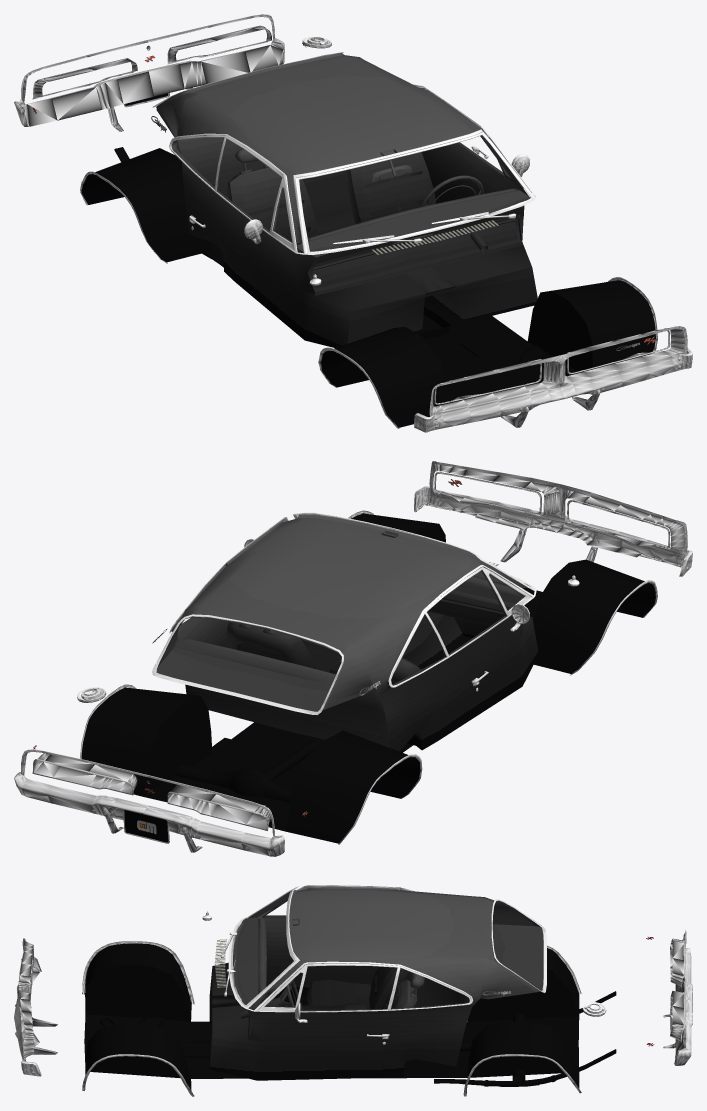
The model's file is Dodgecharger1970_tier.fbx.
3 views of the same model, one above another, from view 1: azimuth 30°, elevation 25°; view 2: azimuth 150°, elevation 25°; view 3: azimuth 270°, elevation 25° (orthographic). The views are drawn at different scales.
Visible parts, largest first — view 1: CG_RT_Car_interior_tier_s, CG_RT_Black_Bottom_tier_s, CG_RT_Chrome_tier_s_vcolor, CG_RT_lables_tier_s; view 2: CG_RT_Car_interior_tier_s, CG_RT_Black_Bottom_tier_s, CG_RT_Chrome_tier_s_vcolor, CG_RT_CM_Logo_tier_s_vcolor; view 3: CG_RT_Car_interior_tier_s, CG_RT_Black_Bottom_tier_s, CG_RT_Chrome_tier_s_vcolor, CG_RT_lables_tier_s.
Boxes of the visible parts, <box> form: CG_RT_Car_interior_tier_s: <box>156,53,537,347</box>; CG_RT_Black_Bottom_tier_s: <box>81,147,655,427</box>; CG_RT_Chrome_tier_s_vcolor: <box>14,14,692,432</box>; CG_RT_lables_tier_s: <box>32,43,656,350</box>; CG_RT_Car_interior_tier_s: <box>156,514,538,751</box>; CG_RT_Black_Bottom_tier_s: <box>81,513,655,843</box>; CG_RT_Chrome_tier_s_vcolor: <box>14,461,692,856</box>; CG_RT_CM_Logo_tier_s_vcolor: <box>124,810,168,842</box>; CG_RT_Car_interior_tier_s: <box>209,887,543,1080</box>; CG_RT_Black_Bottom_tier_s: <box>84,943,616,1092</box>; CG_RT_Chrome_tier_s_vcolor: <box>14,885,692,1096</box>; CG_RT_lables_tier_s: <box>214,937,684,1046</box>.
Bounding box in the file's own units: 1.95 × 1.13 × 4.88.
